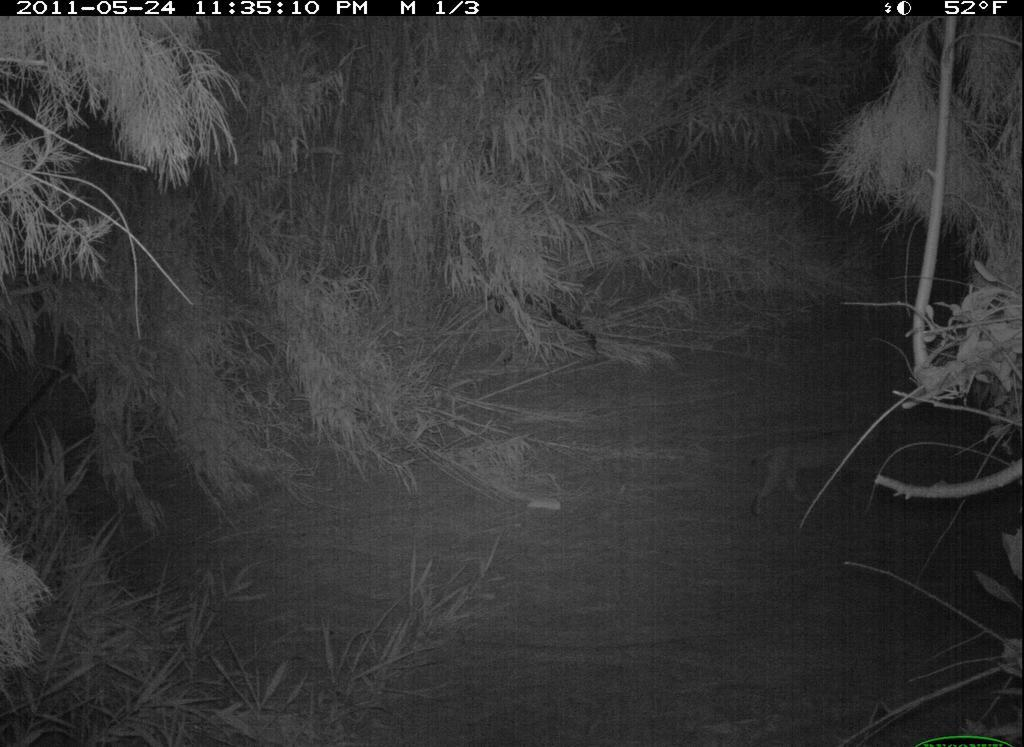bobcat: (739, 419, 902, 528)
